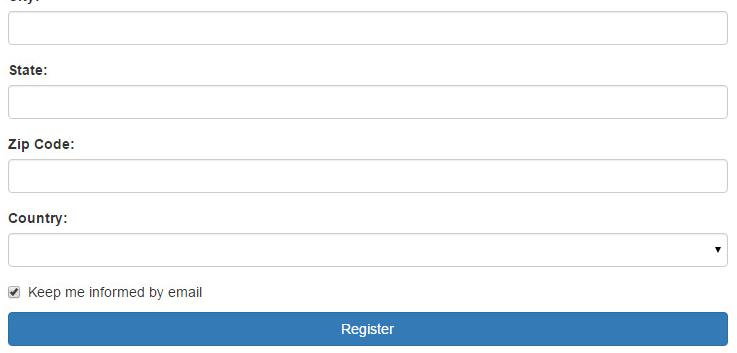button: (7, 310, 729, 347)
checkbox: (4, 283, 22, 300)
checkbox_with_label: (2, 280, 206, 303)
field: (6, 7, 730, 47), (5, 157, 730, 194), (5, 83, 729, 120), (5, 231, 730, 267)
field_with_label: (2, 136, 733, 197), (1, 64, 732, 123), (2, 213, 733, 270)
